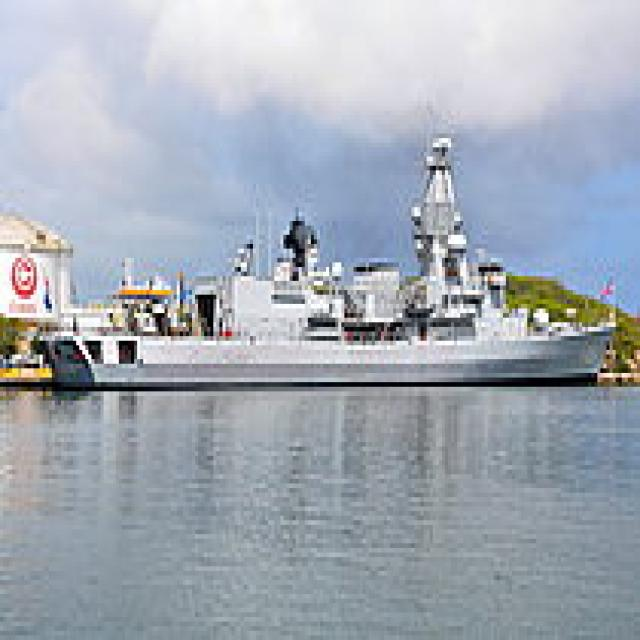Warship: (28, 125, 616, 392)
